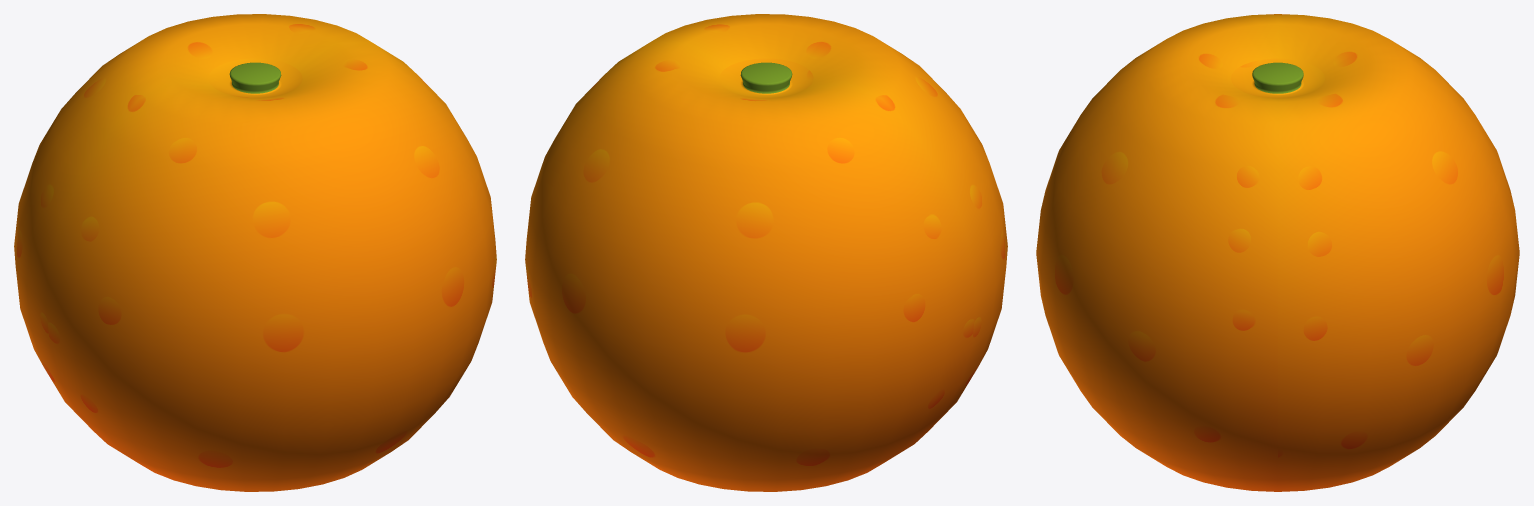
Rendered from Orange.fbx.
The picture shows the model from 3 angles, left to right: view 1: azimuth 30°, elevation 25°; view 2: azimuth 150°, elevation 25°; view 3: azimuth 270°, elevation 25°; orthographic projection.
Visible parts, largest first — view 1: Orange; view 2: Orange; view 3: Orange.
Boxes of the visible parts, bbox=[...] form: Orange: bbox=[14, 14, 496, 491]; Orange: bbox=[525, 14, 1007, 491]; Orange: bbox=[1036, 14, 1519, 491].
Bounding box in the file's own units: 10.82 × 9.43 × 10.82.
